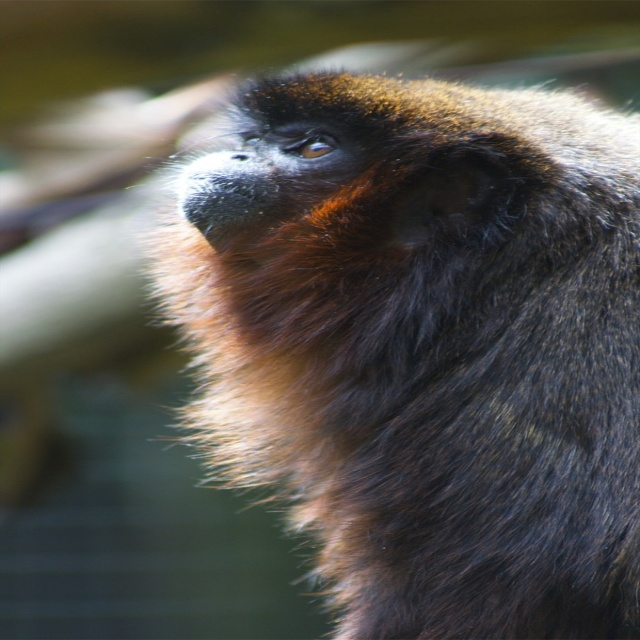Monkey: (126, 62, 640, 639)
